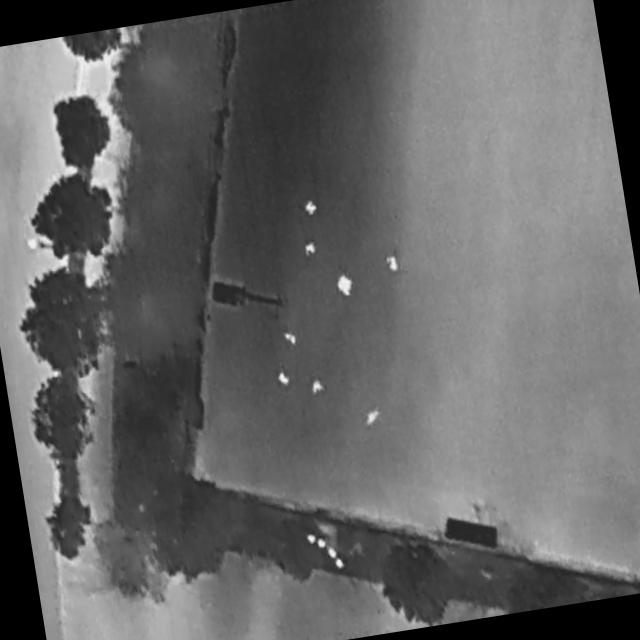person: (361, 405, 384, 429), (280, 326, 302, 351), (336, 273, 355, 301), (274, 367, 295, 390), (310, 378, 327, 397), (387, 256, 400, 275), (306, 202, 320, 219), (305, 242, 318, 259)
